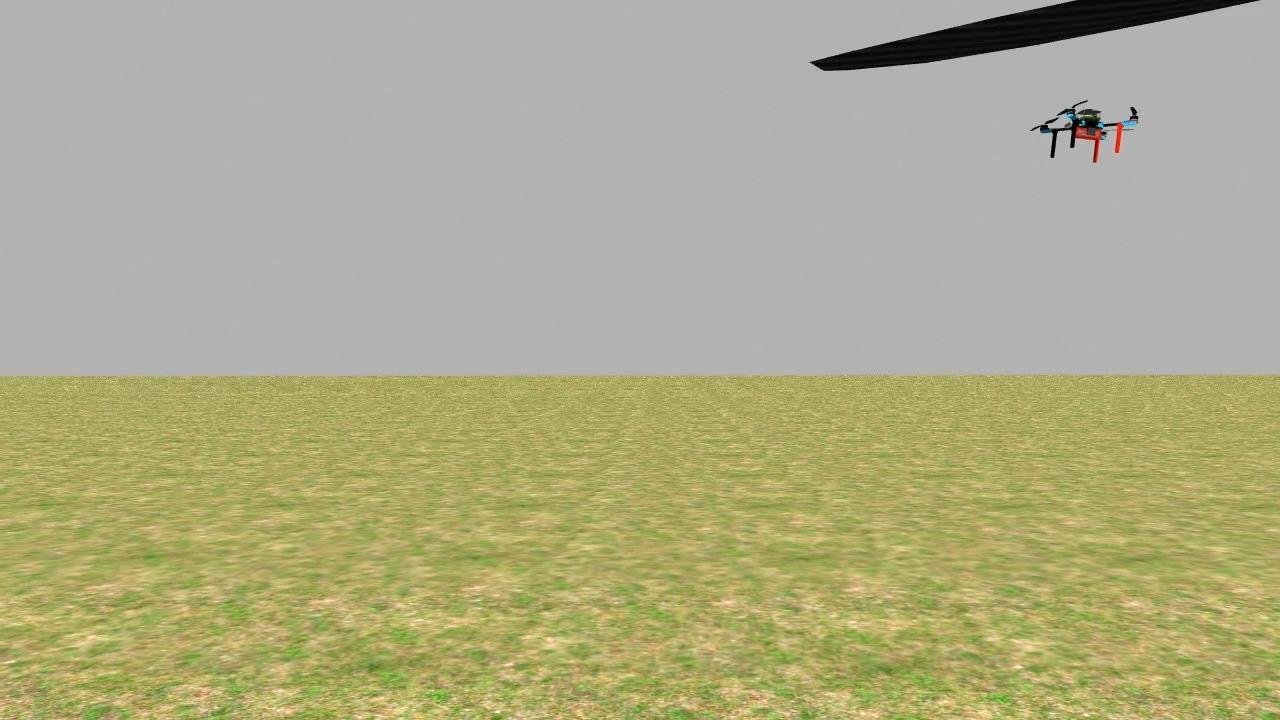UAV: (1031, 98, 1138, 166)
